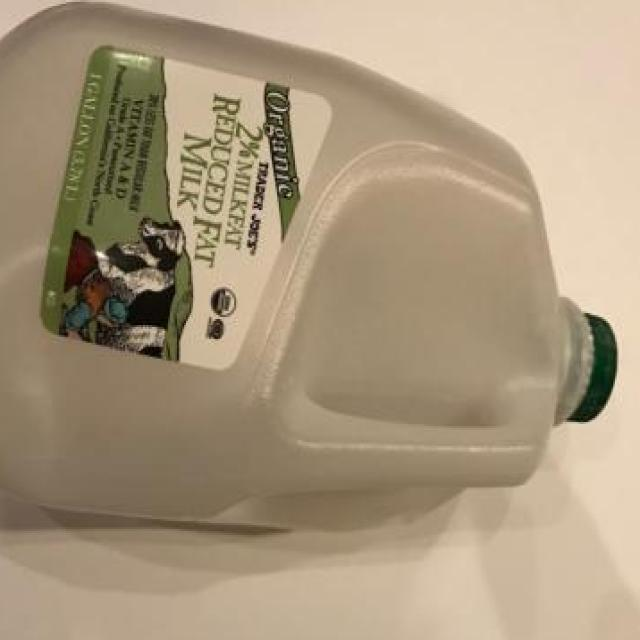inorganic: (37, 42, 537, 488)
organic: (1, 0, 627, 608)
